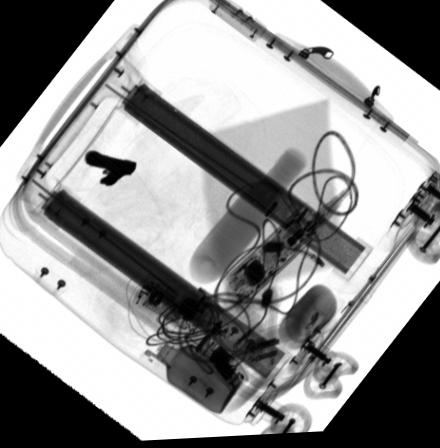Gun: (85, 151, 137, 185)
